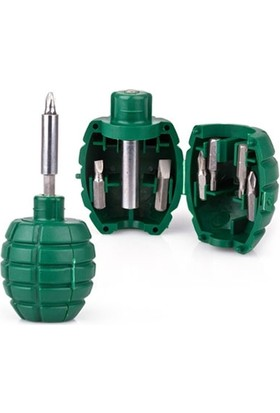e1: (2, 175, 96, 324)
